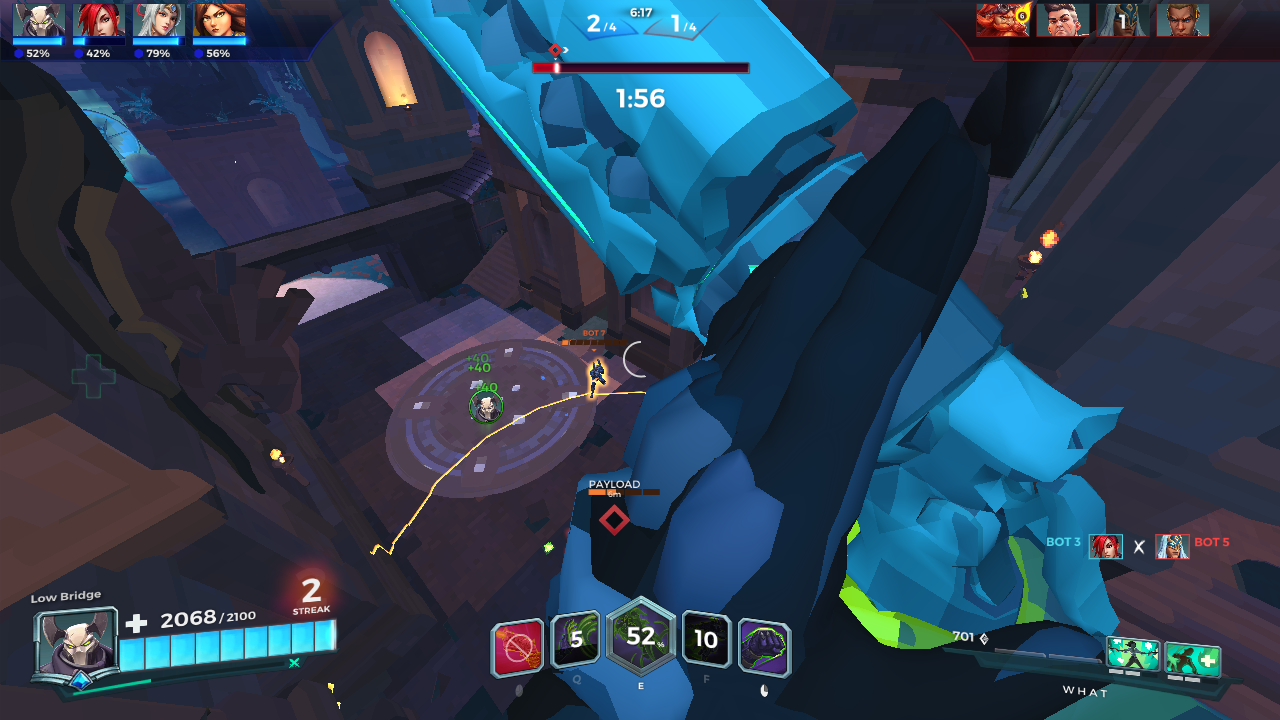model: (585, 348, 614, 397)
